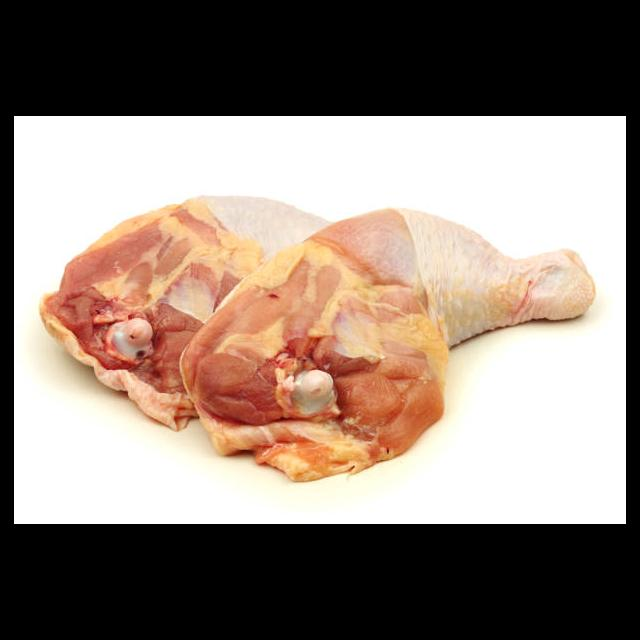chicken: (38, 194, 597, 484)
